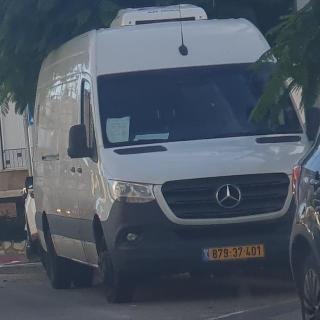LicensePlate: (209, 244, 264, 260)
